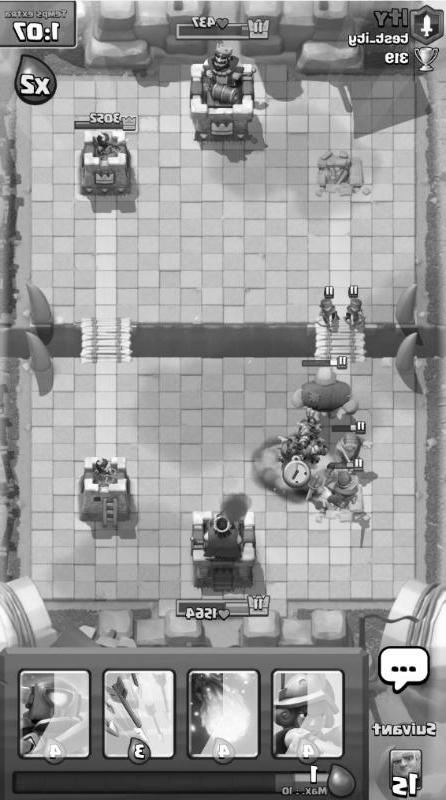archere: (317, 286, 341, 331), (343, 285, 366, 330), (277, 442, 298, 477), (297, 448, 319, 470)
chevalier: (331, 421, 374, 474), (320, 458, 363, 510)
gargouille: (299, 433, 330, 463), (296, 408, 322, 441), (274, 433, 308, 455)
geant: (291, 356, 359, 428)
